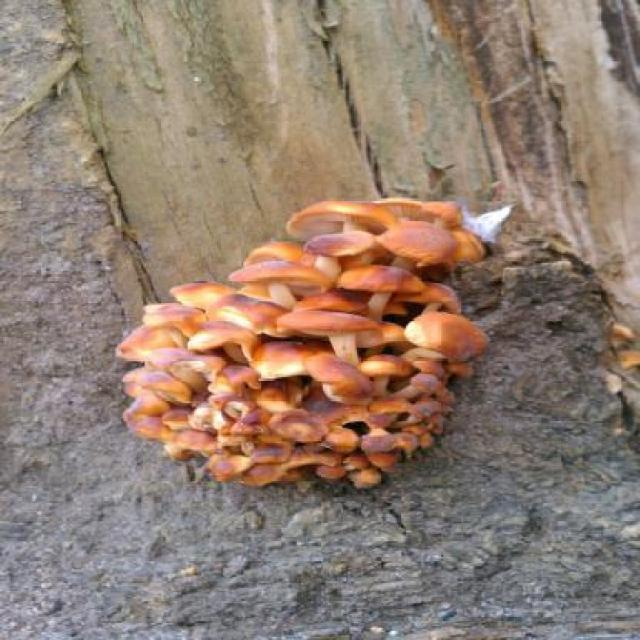Mushroom: (113, 193, 490, 490), (612, 324, 640, 372)
